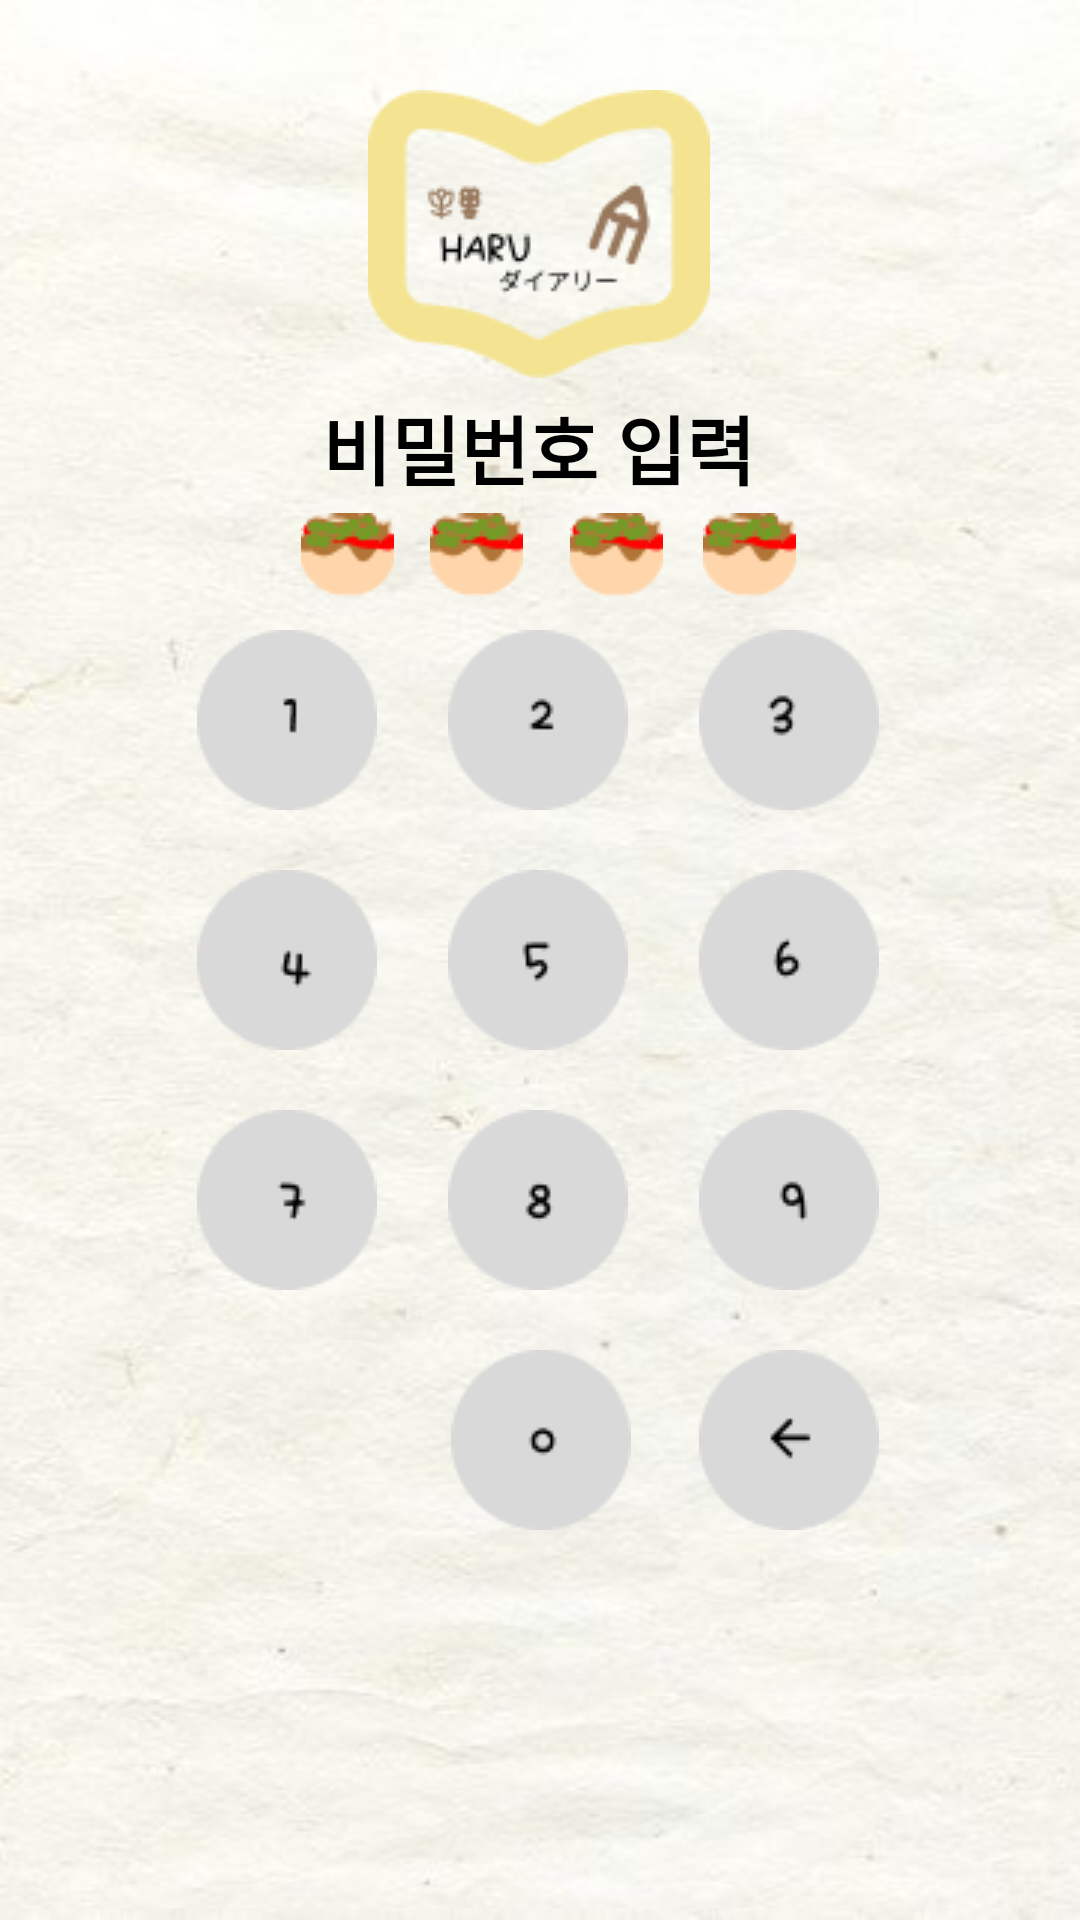

Named icons in this screenshot (1080 × 1920) and their bounding boxes, {"x1": x1, "y1": y1, "x2": x2, "y2": y2}:
arrow: {"x1": 699, "y1": 1350, "x2": 879, "y2": 1530}
